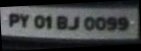character: (55, 15, 68, 30), (105, 15, 117, 31), (33, 14, 45, 29), (68, 14, 79, 30), (94, 16, 106, 30), (116, 16, 128, 30), (8, 13, 19, 27), (83, 16, 94, 30), (18, 13, 28, 28), (45, 15, 52, 29)
